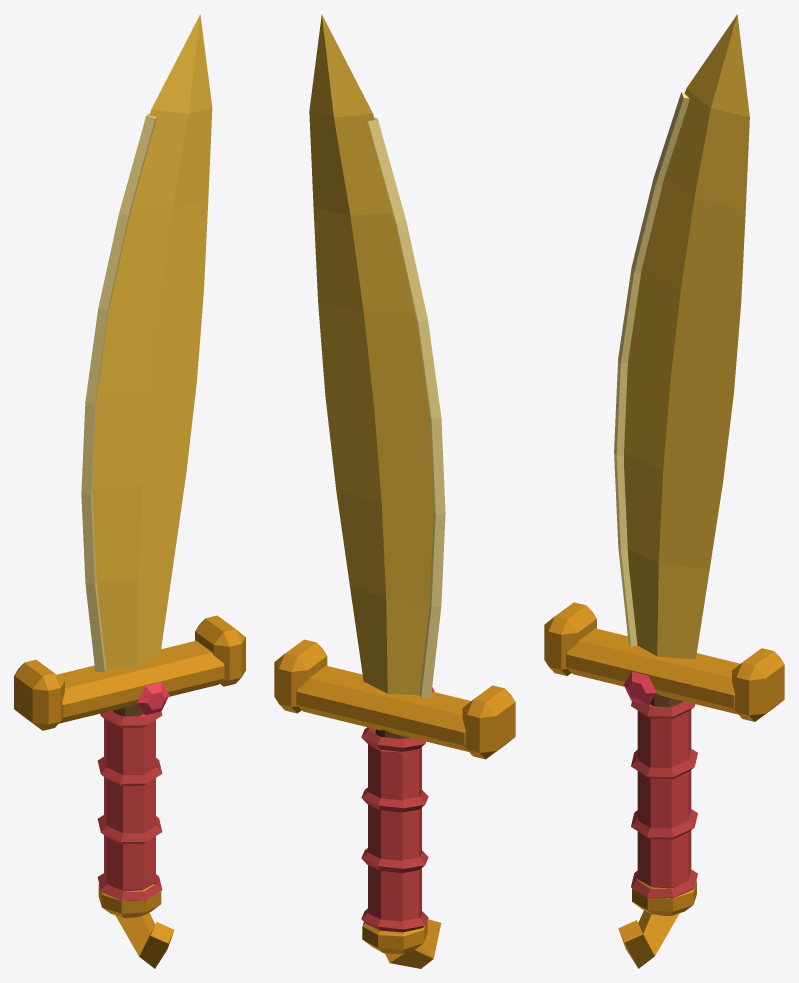
File: GoldScimitar.fbx
3 views of the same model, side by side, from view 1: azimuth 30°, elevation 25°; view 2: azimuth 150°, elevation 25°; view 3: azimuth 330°, elevation 25° (orthographic). The views are drawn at different scales.
Visible parts, largest first — view 1: GoldScimitar; view 2: GoldScimitar; view 3: GoldScimitar.
Boxes of the visible parts, x1,y1,x2,y2 form: GoldScimitar: [14, 14, 245, 968]; GoldScimitar: [274, 14, 515, 968]; GoldScimitar: [544, 14, 784, 968].
Bounding box in the file's own units: 1.06 × 4.37 × 0.4747.
Materials: 1 (1 with a texture image).
